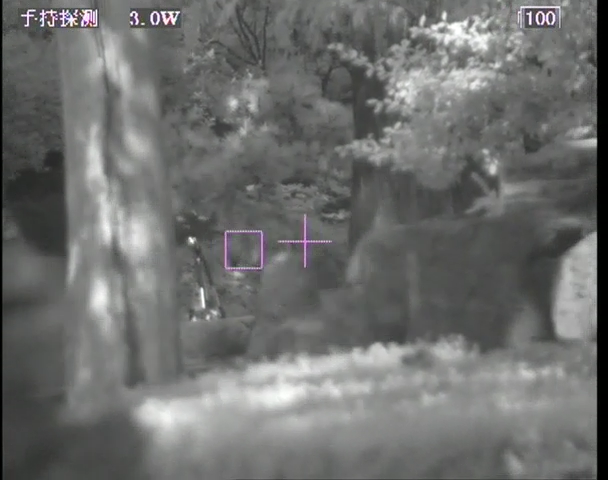my: (186, 236, 197, 247)
